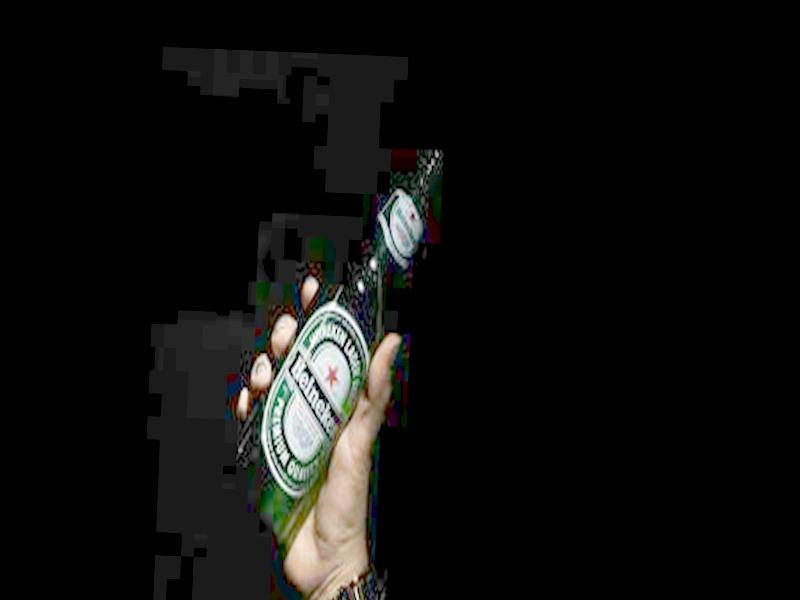Beer: (225, 125, 448, 566)
